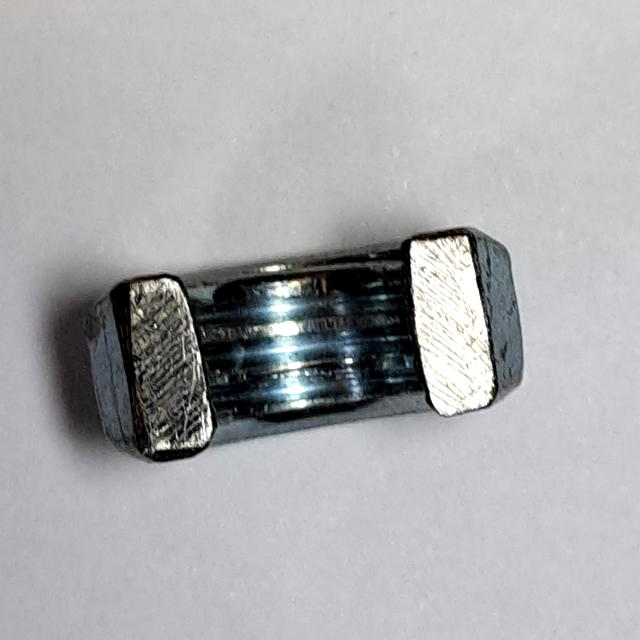Side-Fracture: (72, 216, 539, 482)
